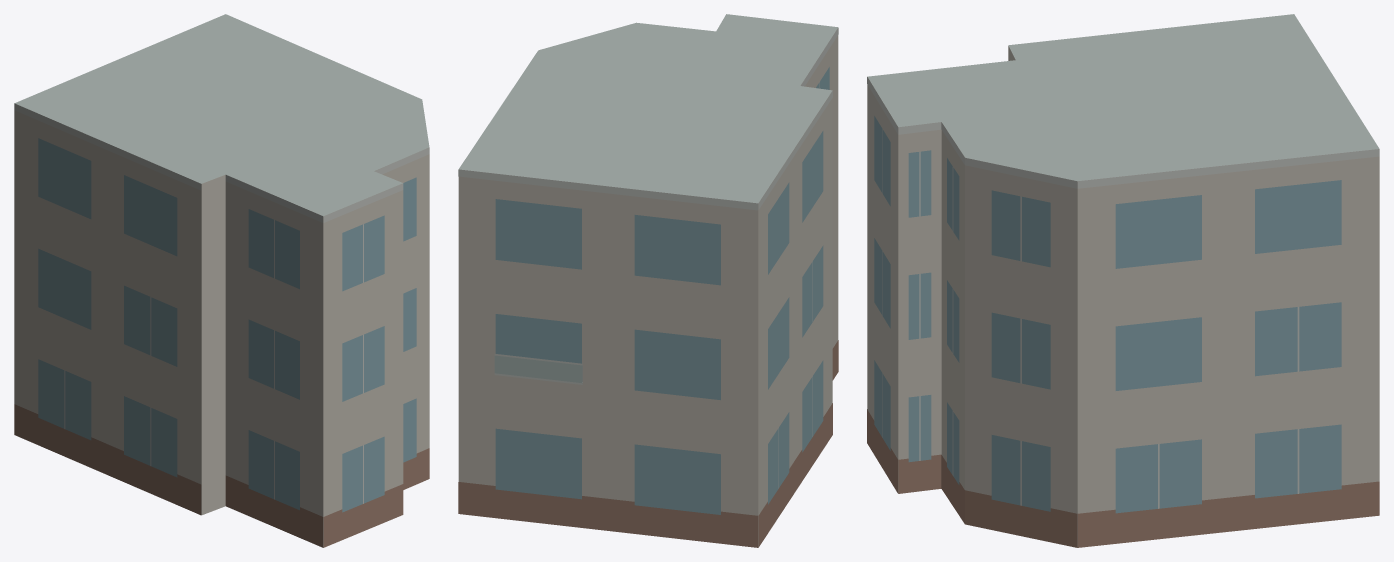
File: survey-upis-32502178.glb
The picture shows the model from 3 angles, left to right: view 1: azimuth 30°, elevation 25°; view 2: azimuth 150°, elevation 25°; view 3: azimuth 270°, elevation 25°; orthographic projection. The views are drawn at different scales.
Parts seen in each view (by area): view 1: survey-upis-32502178.tmp; view 2: survey-upis-32502178.tmp; view 3: survey-upis-32502178.tmp.
Part boxes in pixels (x1=…): survey-upis-32502178.tmp: x1=14, y1=14, x2=429, y2=547; survey-upis-32502178.tmp: x1=458, y1=14, x2=838, y2=547; survey-upis-32502178.tmp: x1=867, y1=14, x2=1379, y2=547.
Bounding box in the file's own units: 11.55 × 11.8 × 14.96.
